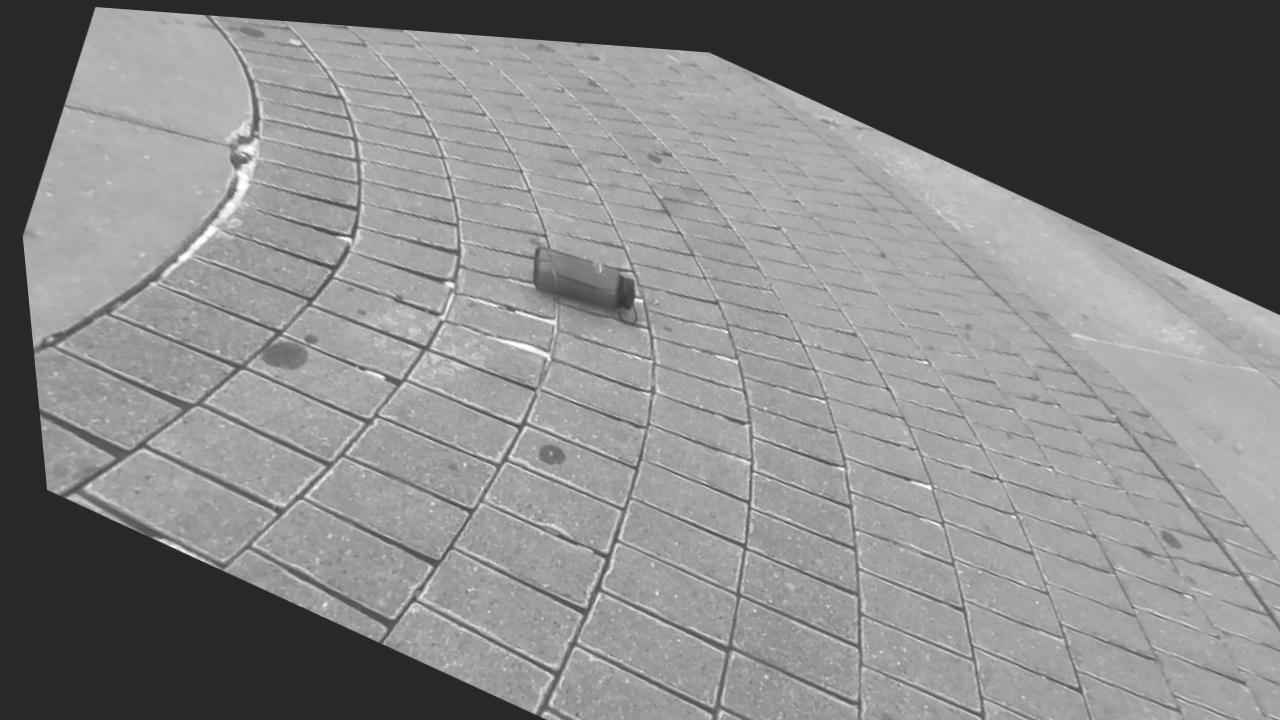bottle: (533, 247, 636, 322)
